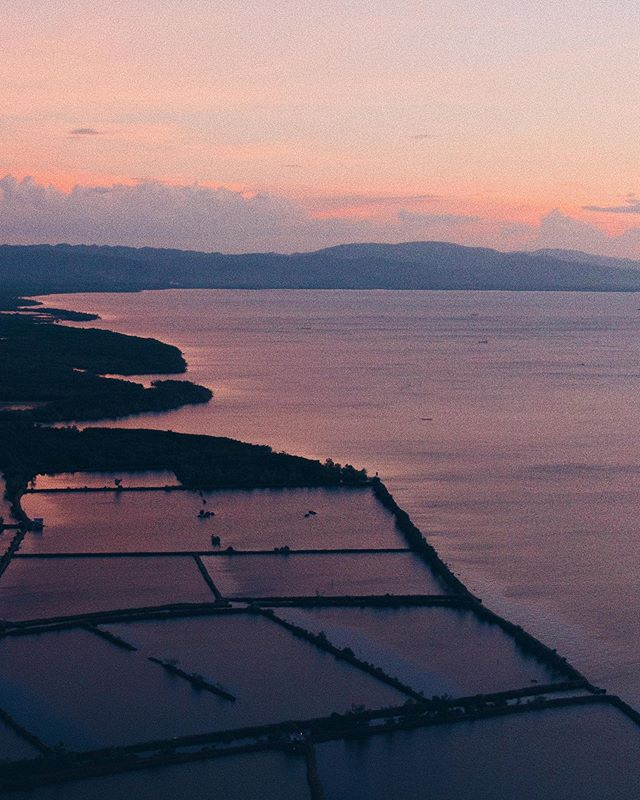sea: (107, 297, 640, 636)
sky: (1, 1, 640, 226)
